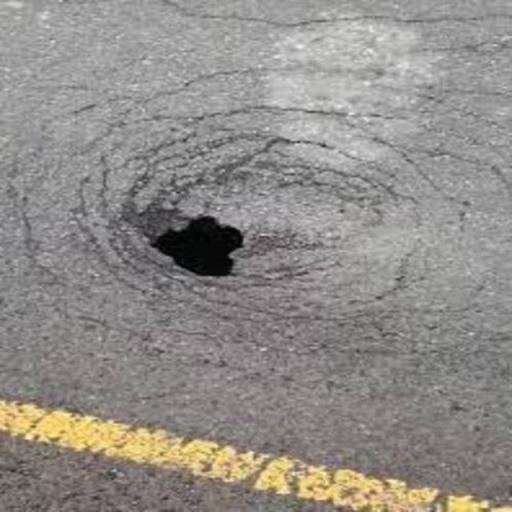Concentric_Crack: (153, 216, 243, 276)
